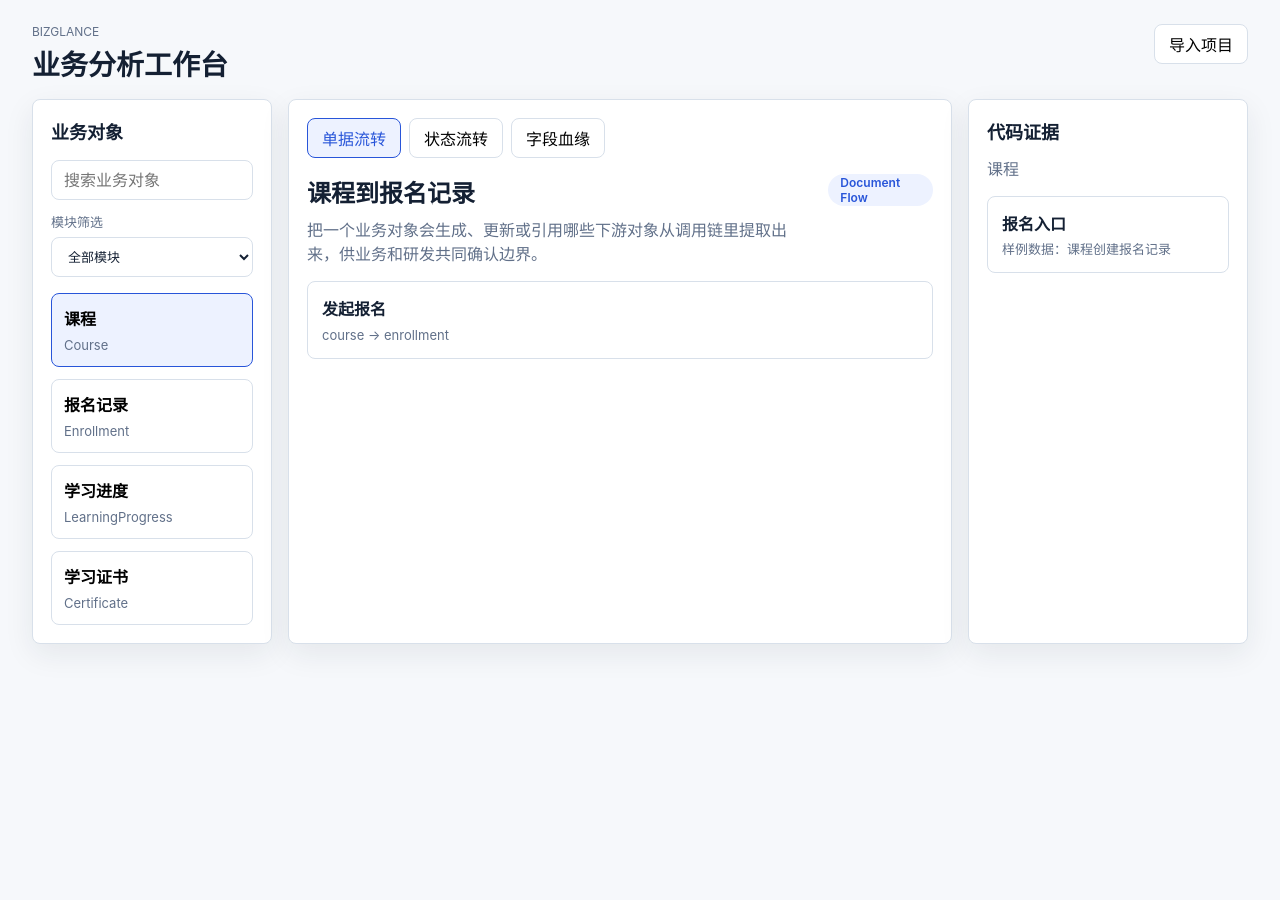
Scenario: App › updates the view heading when switching tabs
The width and height of the screenshot is (1280, 900).
Expected: the heading "课程到报名记录" is shown, [307,179,475,208]
What coordinates should you click on to do the following:
click the button "状态流转"
I would click on:
 (456, 138)
Its box is [409,118,503,158].
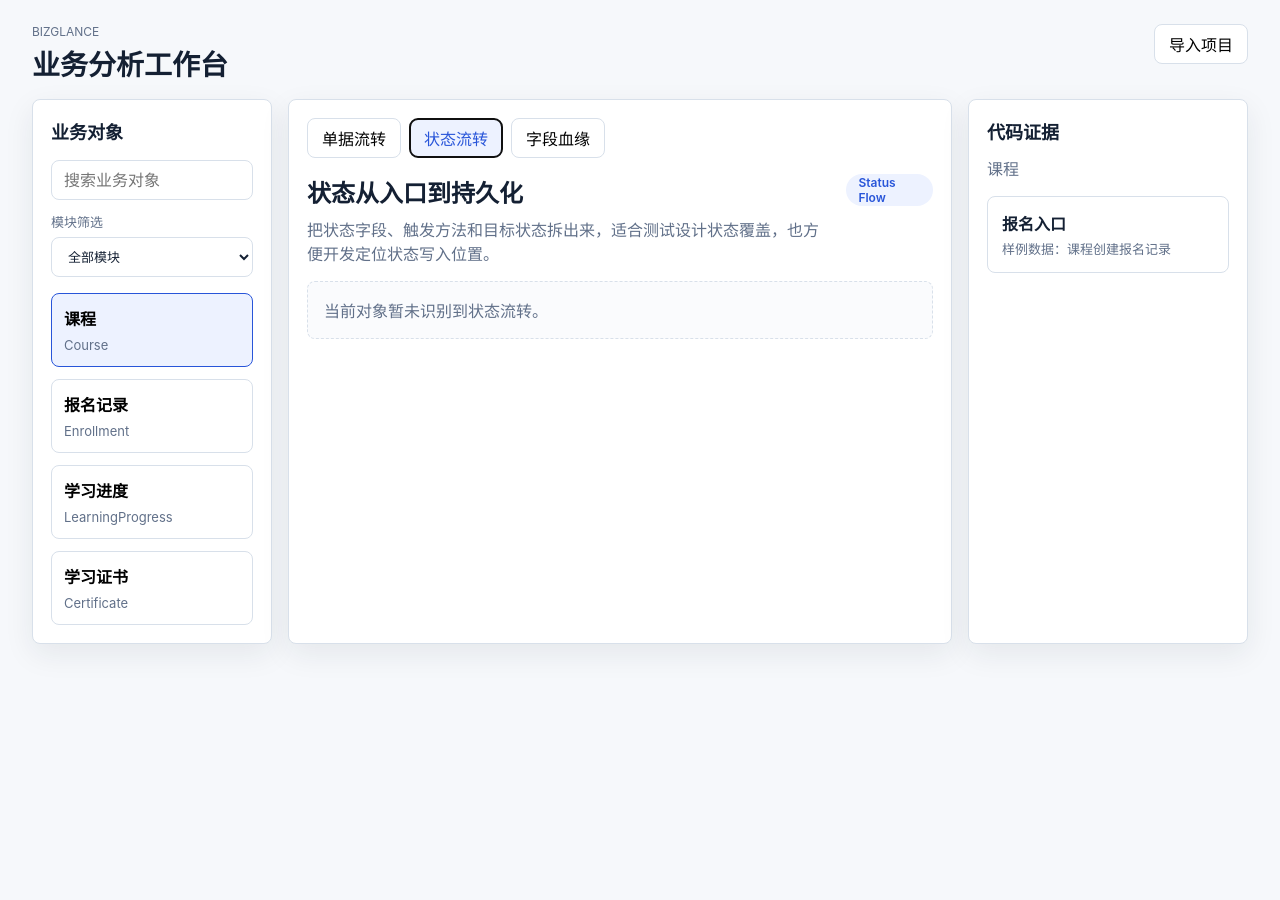
Result: the heading "状态从入口到持久化" is shown at [307,179,523,208]
Result: the text "Status Flow" is shown at [846,174,933,206]
